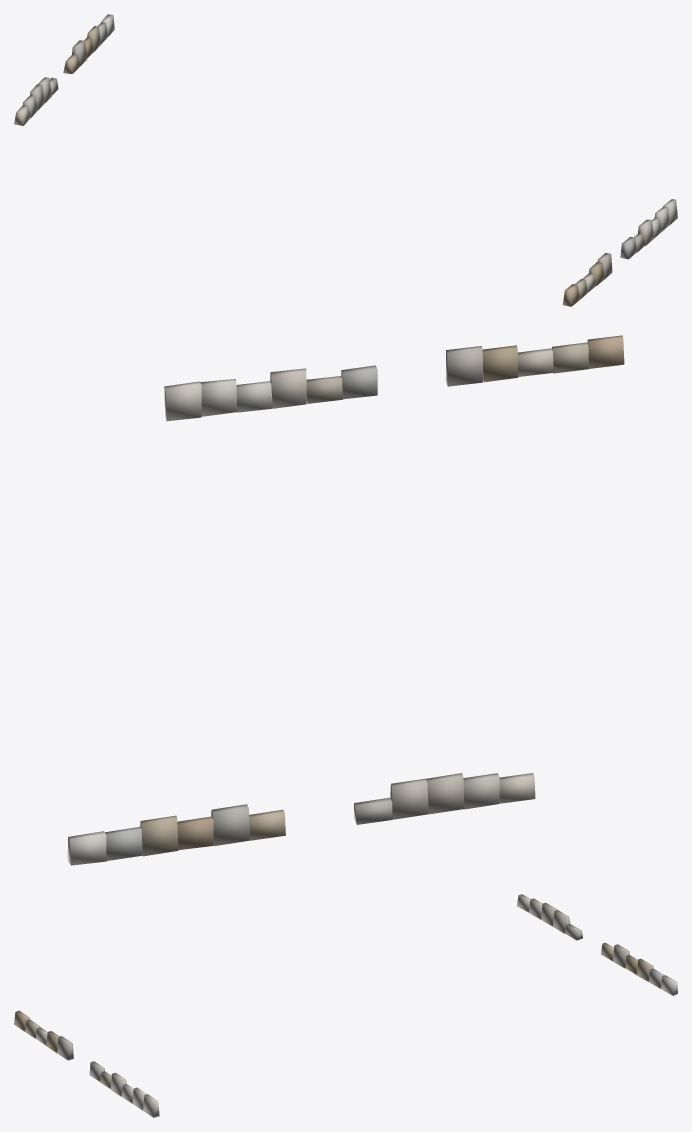
File: farm_-36_-49_far.glb
The picture shows the model from 3 angles, top to bottom: view 1: azimuth 30°, elevation 25°; view 2: azimuth 150°, elevation 25°; view 3: azimuth 270°, elevation 25°; orthographic projection. The views are drawn at different scales.
Visible parts, largest first — view 1: geometry_0; view 2: geometry_0; view 3: geometry_0.
Boxes of the visible parts, left/top/right/bottom form: geometry_0: left=14, top=14, right=677, bottom=306; geometry_0: left=67, top=335, right=624, bottom=865; geometry_0: left=14, top=894, right=677, bottom=1117.
Bounding box in the file's own units: 36.96 × 4.49 × 57.42.
